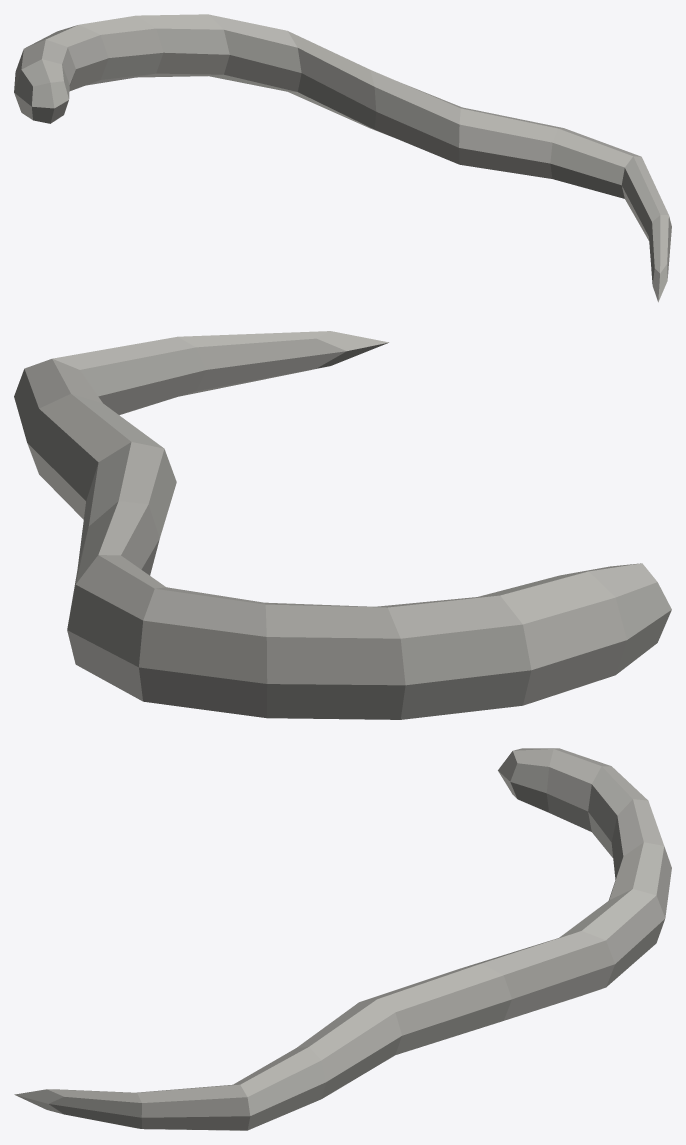
The model's file is Tail.fbx.
3 renders of one model, top to bottom at view 1: azimuth 30°, elevation 25°; view 2: azimuth 150°, elevation 25°; view 3: azimuth 270°, elevation 25°, orthographic. The views are drawn at different scales.
Parts seen in each view (by area): view 1: Tail; view 2: Tail; view 3: Tail.
Boxes of the visible parts, x1,y1,x2,y2 form: Tail: (14,14,671,302); Tail: (14,331,671,719); Tail: (14,748,671,1130).
Bounding box in the file's own units: 104 × 31.15 × 114.
